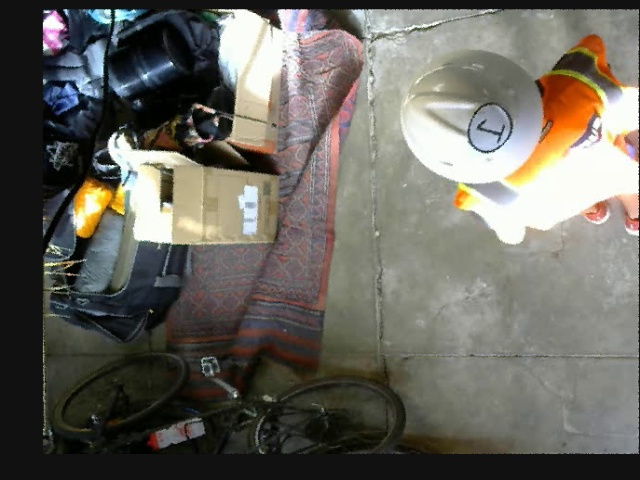one: (467, 103, 512, 154)
